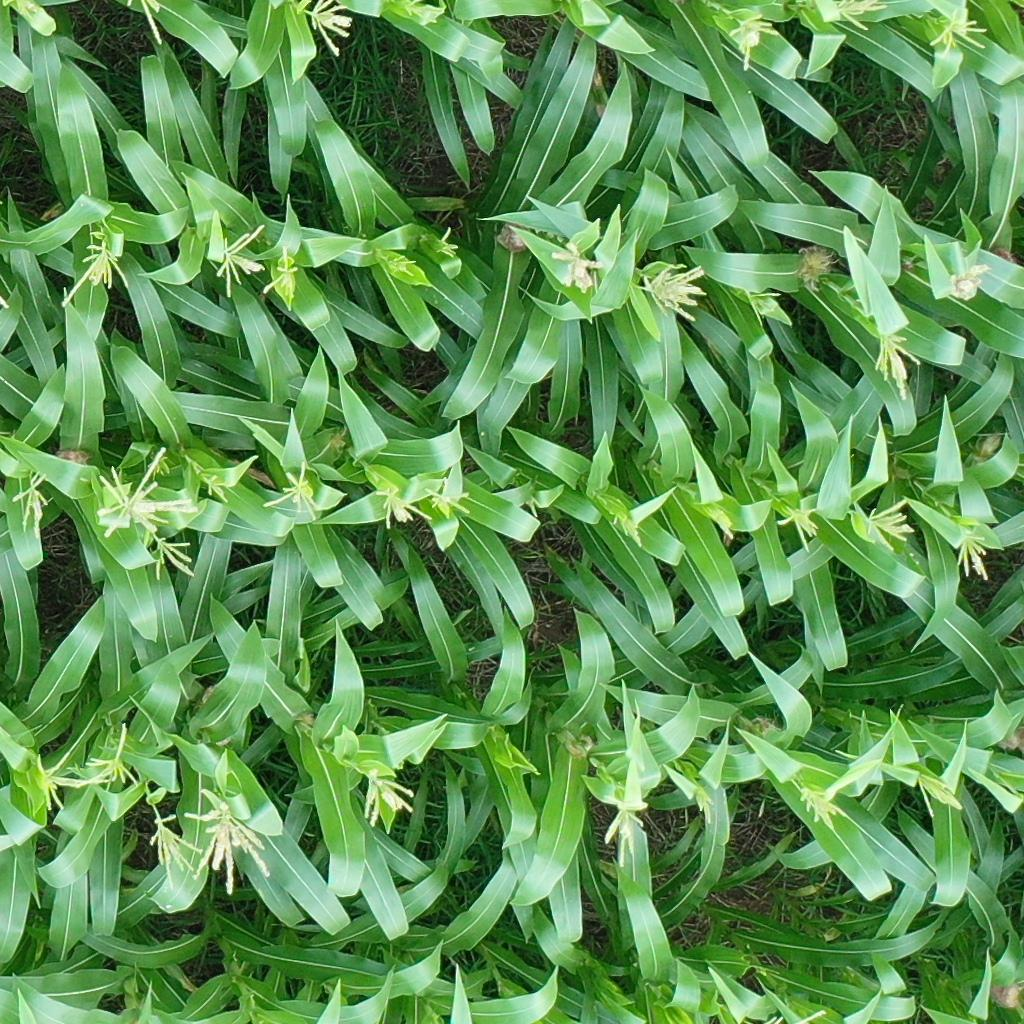Tassel: (182, 793, 279, 895), (88, 447, 190, 536), (58, 235, 133, 306), (640, 257, 713, 329), (143, 810, 204, 889), (924, 1, 992, 65), (867, 325, 922, 404), (600, 787, 652, 870), (355, 767, 419, 834), (214, 222, 270, 298), (86, 718, 143, 791), (260, 462, 326, 524), (854, 492, 915, 555), (721, 11, 780, 72), (300, 1, 360, 60), (27, 752, 87, 811), (911, 767, 965, 829), (950, 519, 999, 587), (258, 244, 303, 313), (799, 774, 847, 835), (13, 471, 54, 539), (545, 240, 603, 287), (373, 486, 430, 532), (424, 474, 476, 524), (776, 502, 822, 555), (147, 538, 202, 582), (831, 1, 889, 33), (606, 501, 643, 548), (126, 1, 164, 44), (707, 499, 743, 544), (692, 776, 721, 829), (400, 1, 441, 28), (383, 251, 420, 280), (201, 474, 235, 503), (436, 223, 461, 262)
